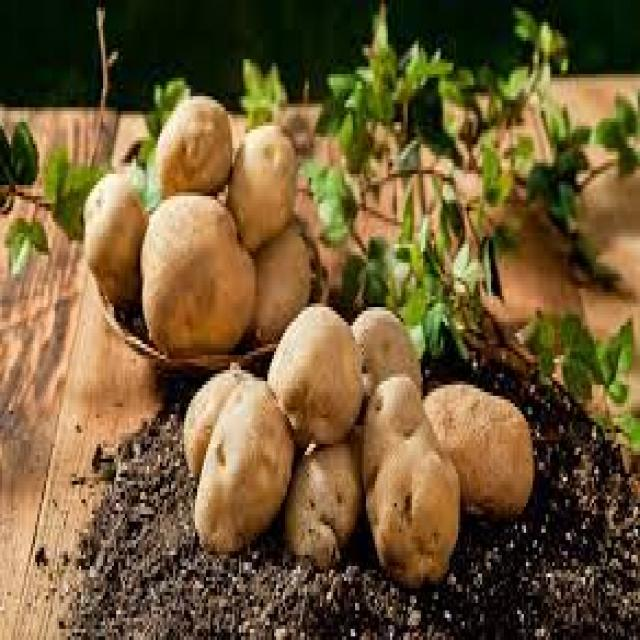Potato: (364, 377, 462, 590), (140, 192, 256, 355), (195, 381, 296, 555), (228, 126, 298, 252)
